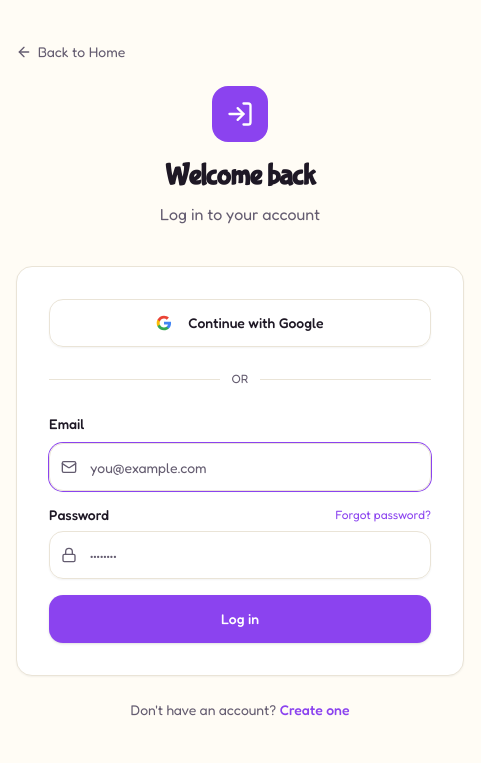
Login › surfaces the server's error message in the banner instead of throwing
Type "a@b.c" into the field labelled "Email" at {"x": 240, "y": 467}, box [49, 443, 431, 491]
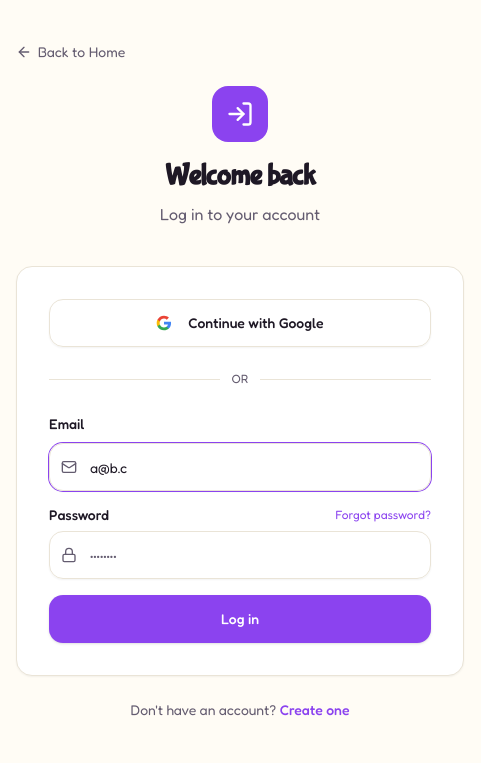
Type "secret" into the password field labelled "Password" at {"x": 240, "y": 555}, box [49, 531, 431, 579]
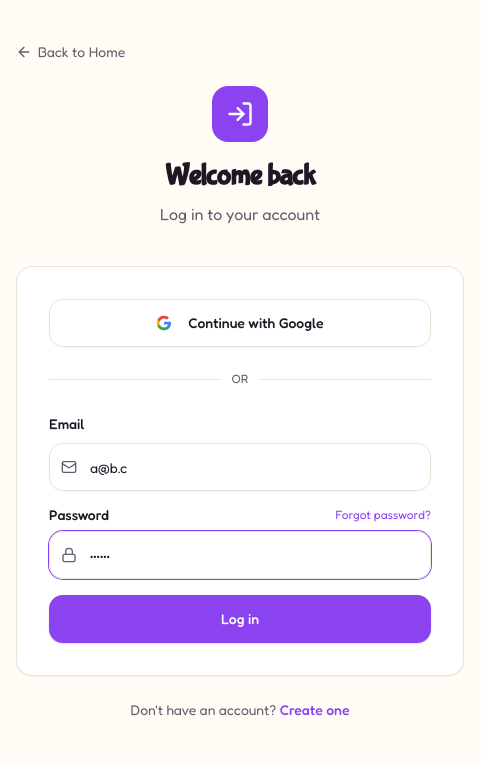
Click the button "Log in" at {"x": 240, "y": 619}, box [49, 595, 431, 643]
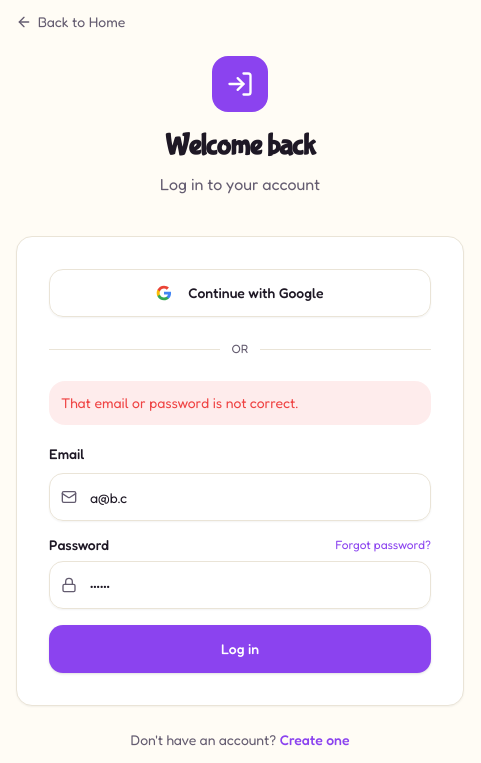
Check: the text "That email or password is not correct." is shown, box [49, 381, 431, 425]
